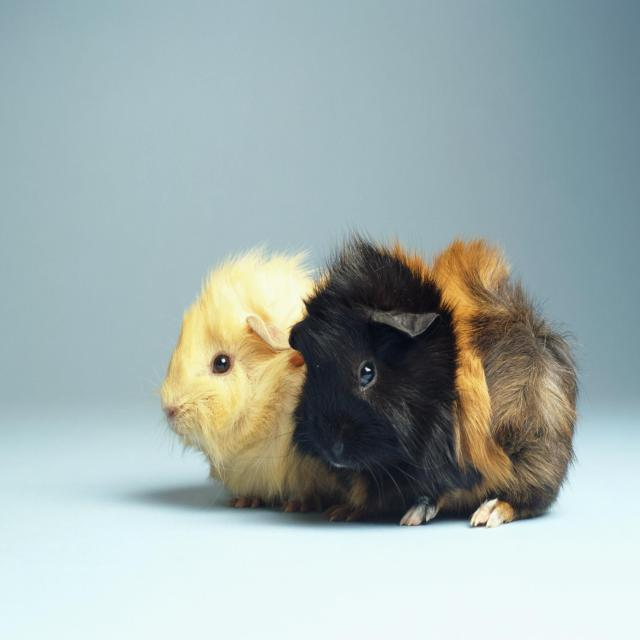guinea pig: (289, 240, 578, 525), (164, 248, 324, 515)
